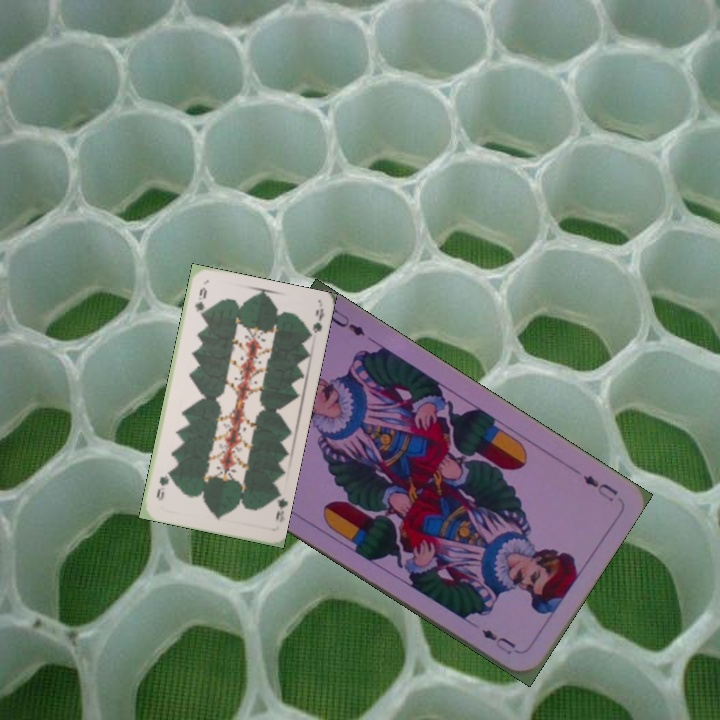EU: (579, 470, 621, 504)
G9: (269, 489, 289, 525), (191, 283, 210, 319)
